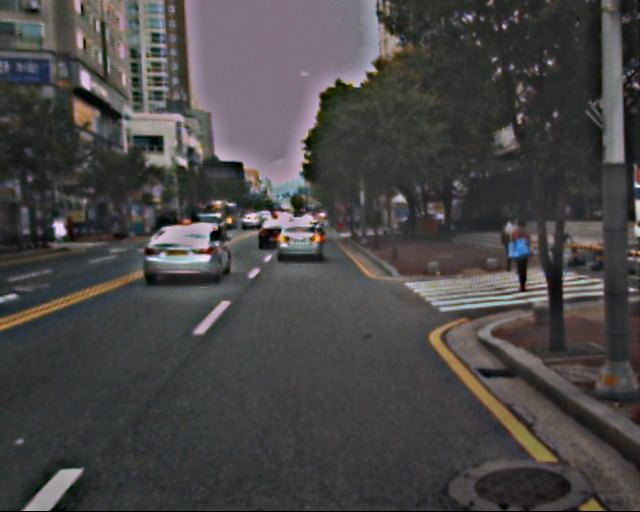person: (506, 215, 538, 293), (499, 217, 522, 273)
